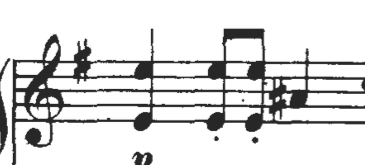sharp: (69, 38, 94, 86)
treble_clef: (20, 29, 71, 153)
